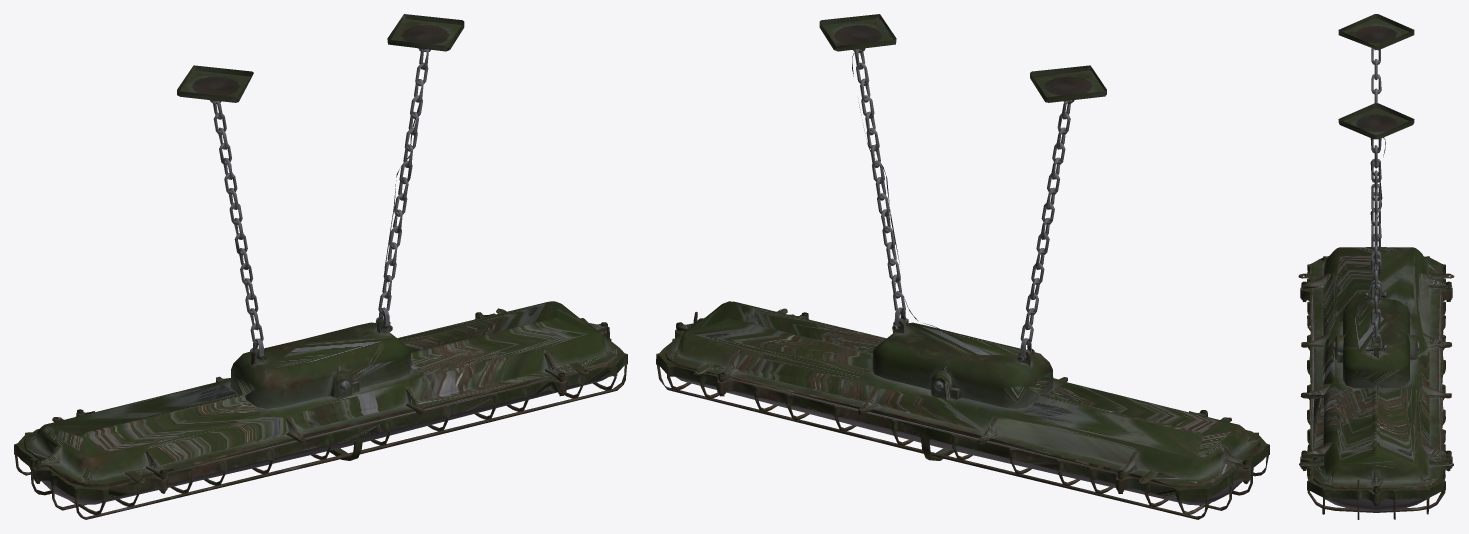
File: caged_light.glb
3 renders of one model, left to right at view 1: azimuth 30°, elevation 25°; view 2: azimuth 150°, elevation 25°; view 3: azimuth 270°, elevation 25°, orthographic. The views are drawn at different scales.
Parts seen in each view (by area): view 1: caged_hanging_light; view 2: caged_hanging_light; view 3: caged_hanging_light.
Boxes of the visible parts, bbox=[...] form: caged_hanging_light: bbox=[14, 14, 627, 519]; caged_hanging_light: bbox=[656, 14, 1269, 519]; caged_hanging_light: bbox=[1298, 14, 1454, 519].
Bounding box in the file's own units: 1.16 × 0.7501 × 0.3149.
Materials: 1 (1 with a texture image).
